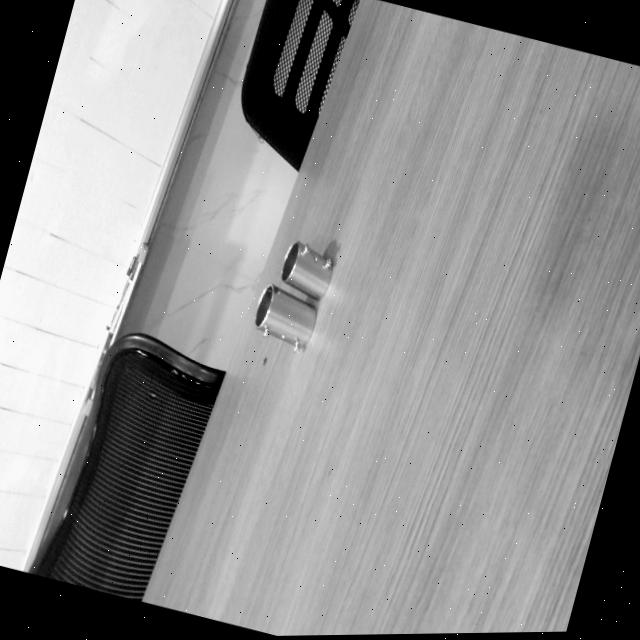Co_Lon: (245, 281, 324, 354)
Co_Nho: (273, 237, 341, 301)
